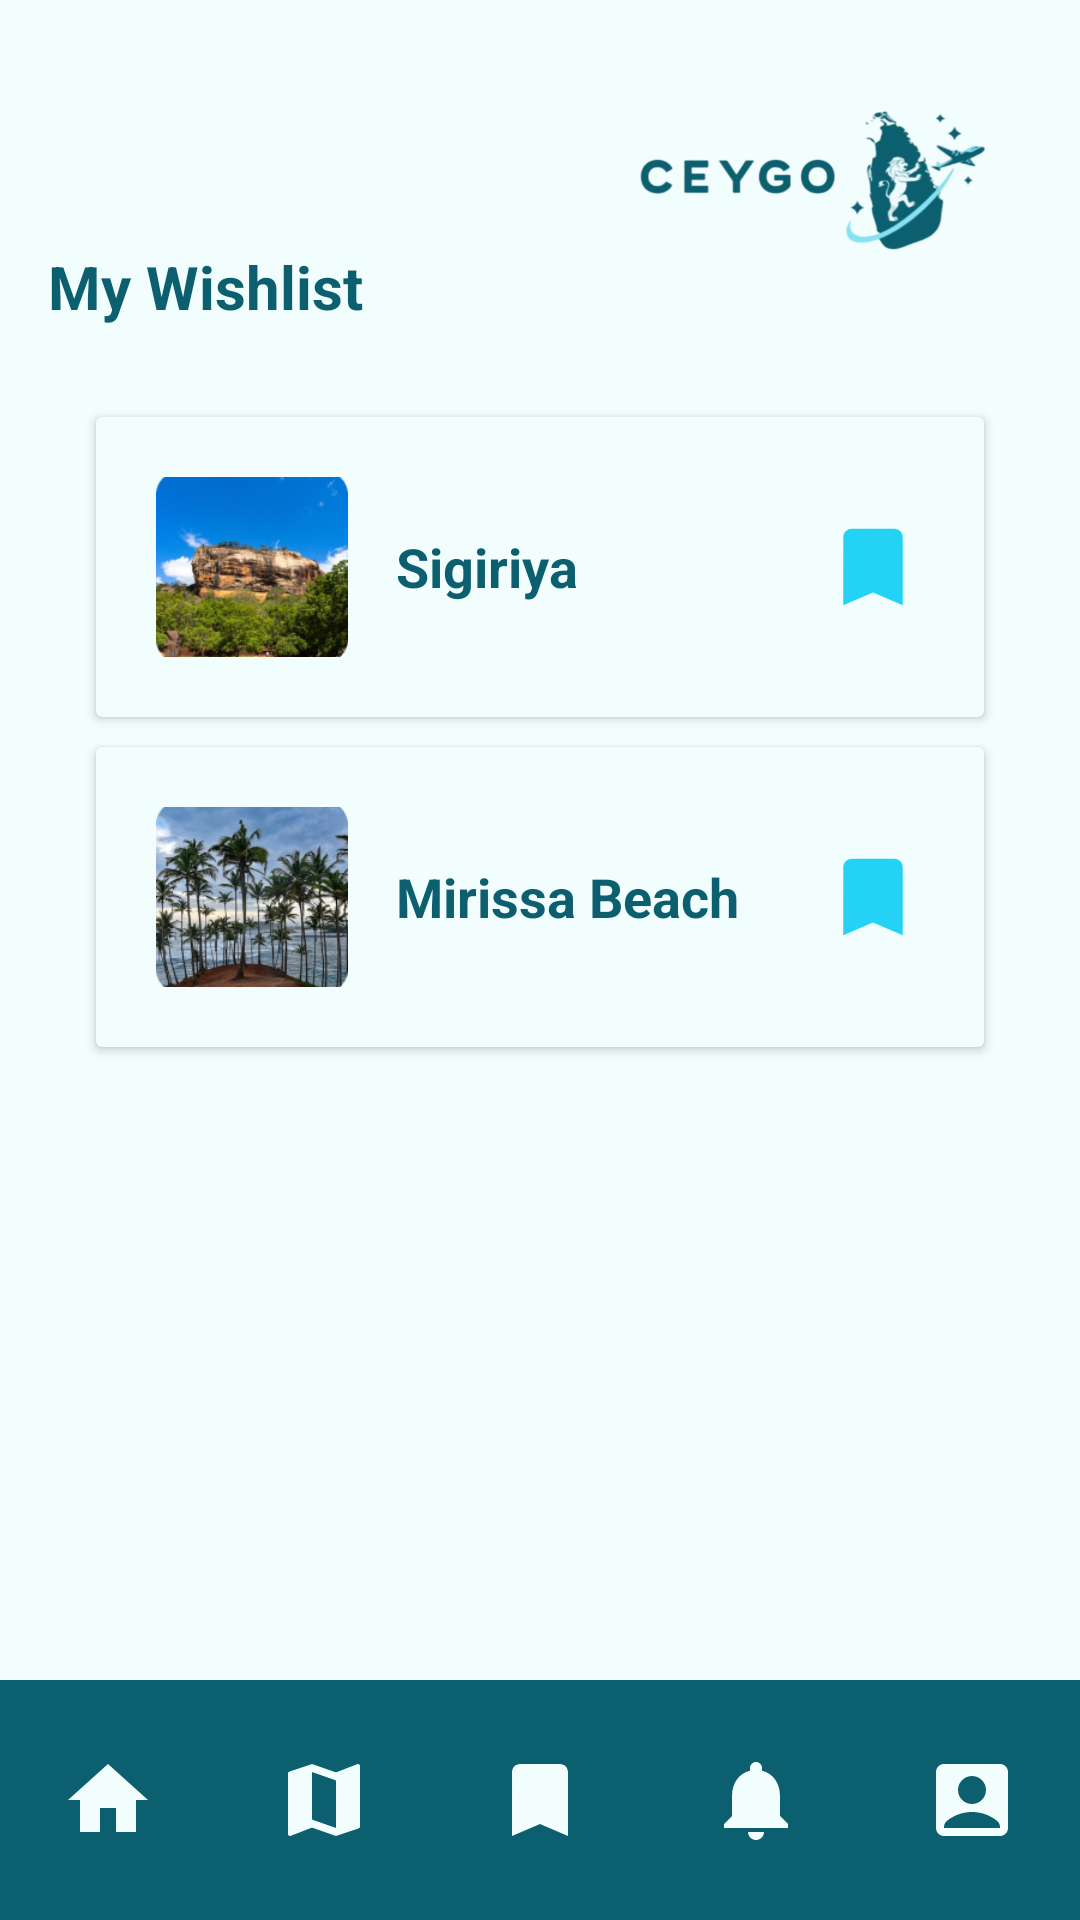

Named icons in this screenshot (1080*1920) and their bounding boxes, rect(x1, y1, x2, y2):
bookmark: rect(843, 528, 903, 605), rect(843, 858, 903, 935)
